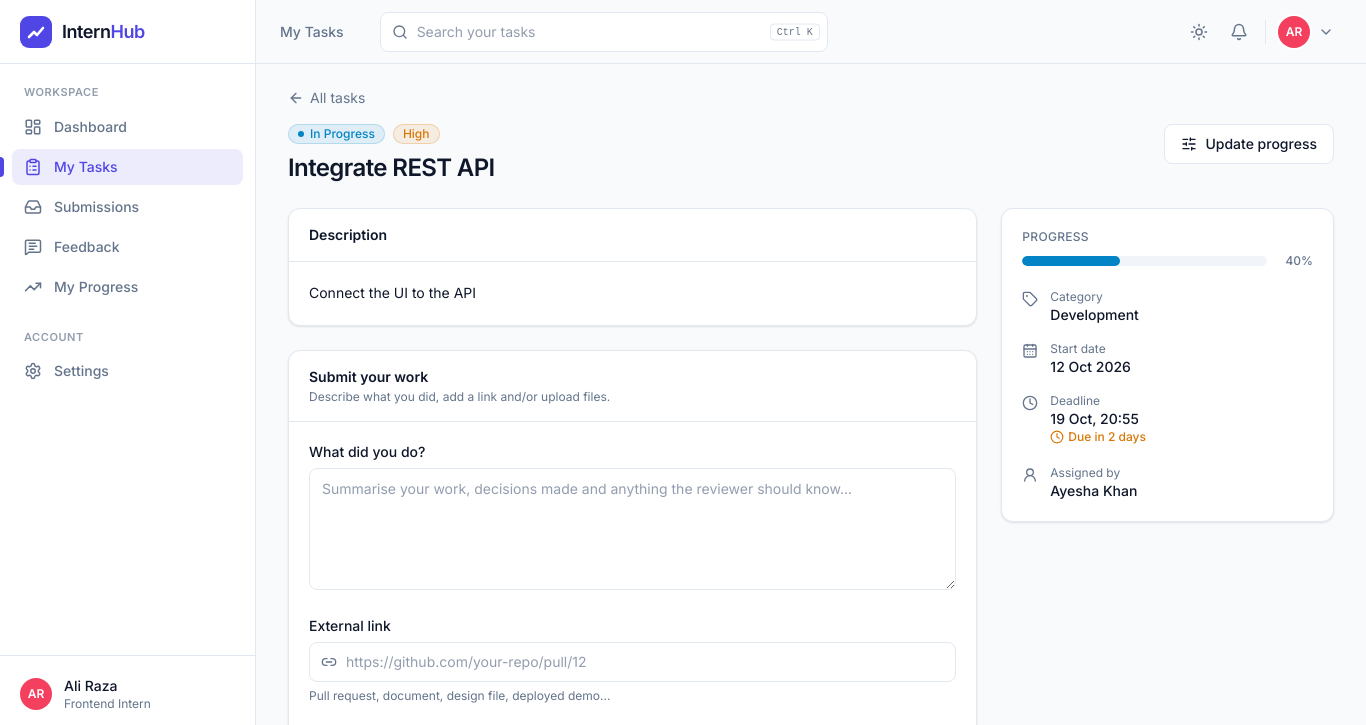
task detail › rejects an invalid link
expect the heading "Integrate REST API" is shown: met, box [288, 152, 495, 184]
Step 1. Type "ftp://nope" into the field labelled "External link" → (633, 662), box [309, 642, 956, 682]
(page scrolled)
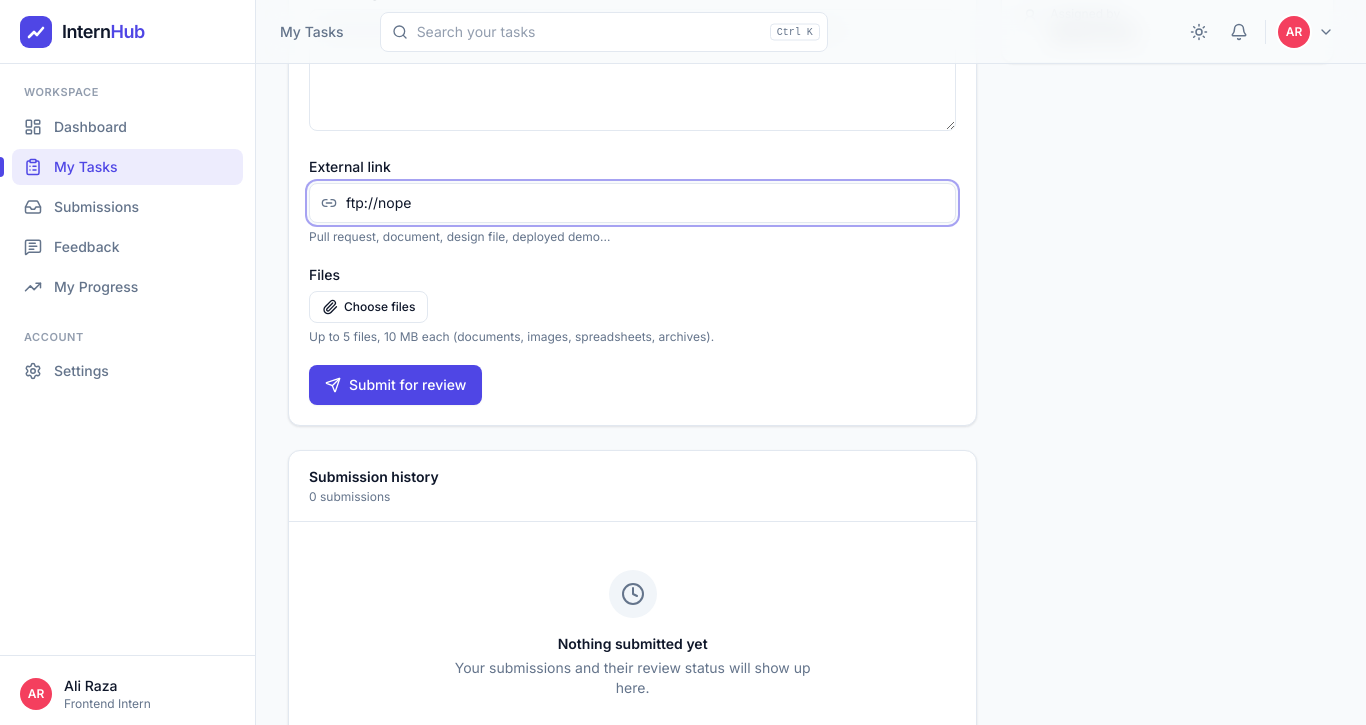
Step 2. Click the button "Submit for review" → (396, 385), box [309, 365, 482, 405]
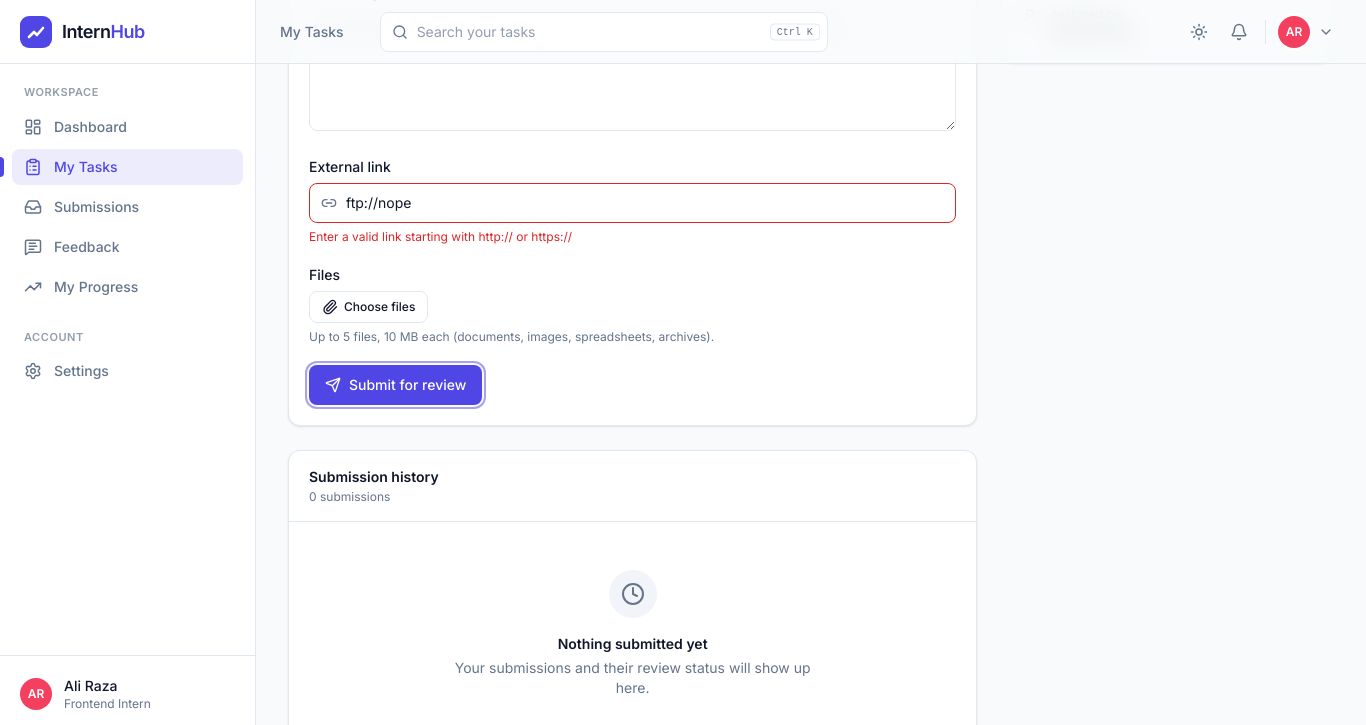
expect the text "Enter a valid link starting with http:// or https://" is shown: met, box [309, 229, 572, 244]
